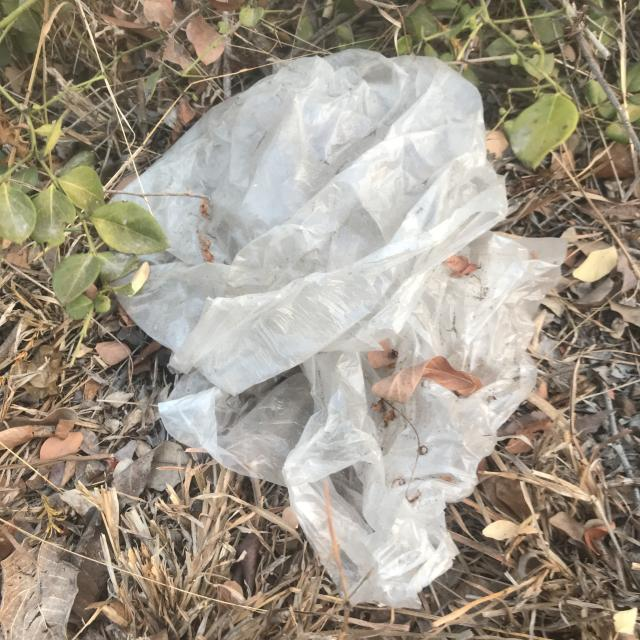Single-layer Plastic: (157, 233, 577, 615), (116, 50, 506, 394)
